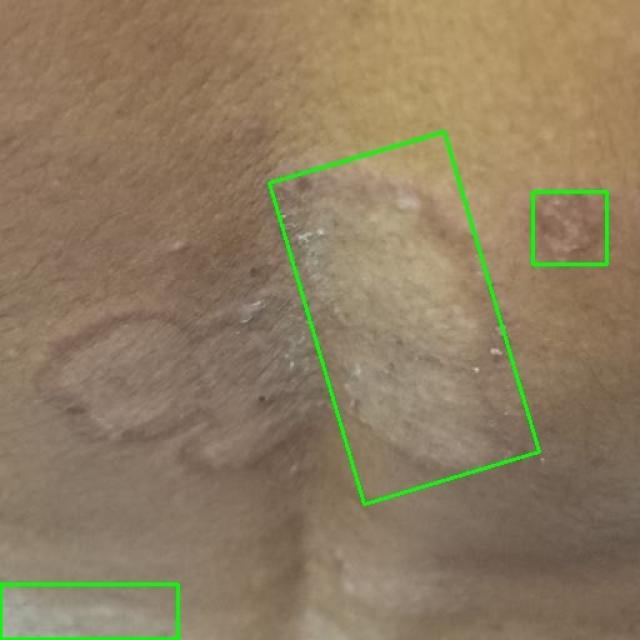Tinea Corporis: (269, 132, 539, 504), (0, 584, 178, 639), (532, 191, 606, 264)
